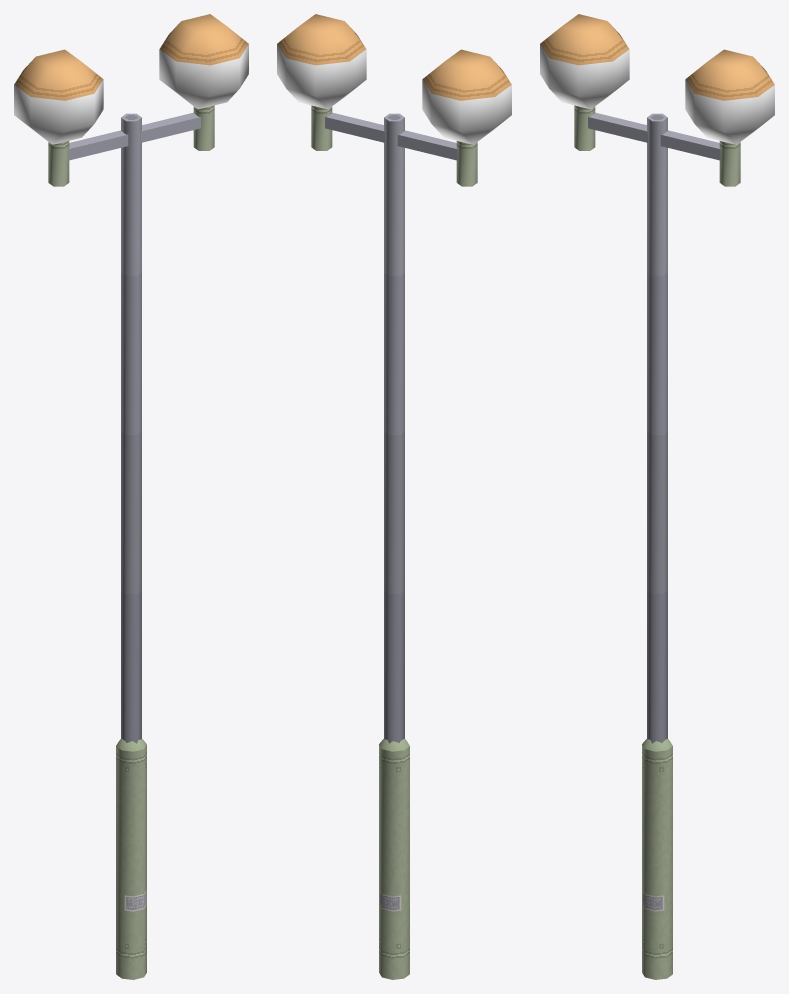
Rendered from 02f3_Park_Lamp_Post.glb.
3 renders of one model, left to right at view 1: azimuth 30°, elevation 25°; view 2: azimuth 150°, elevation 25°; view 3: azimuth 330°, elevation 25°, orthographic.
Visible parts, largest first — view 1: part_0; view 2: part_0; view 3: part_0.
Boxes of the visible parts, bbox=[...] form: part_0: bbox=[14, 14, 248, 979]; part_0: bbox=[277, 14, 511, 979]; part_0: bbox=[540, 14, 774, 979].
Bounding box in the file's own units: 1.2 × 4.9 × 0.4.
Materials: 1 (1 with a texture image).
